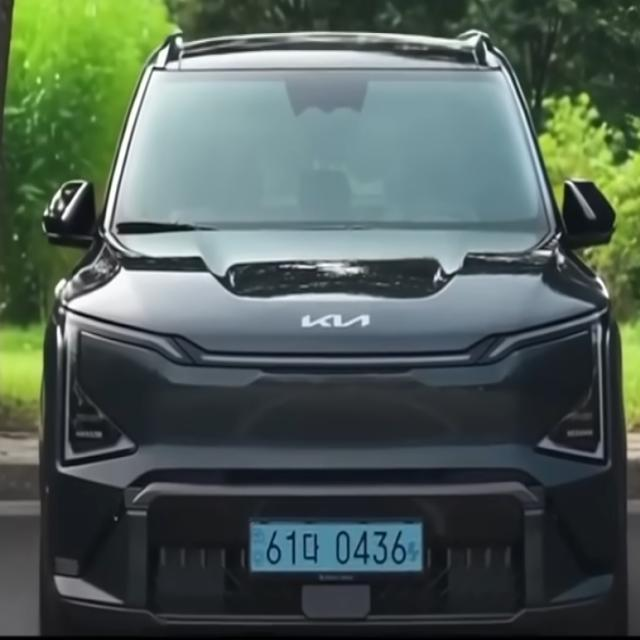car: (229, 506, 452, 587)
carev: (406, 520, 429, 577), (246, 519, 266, 575)
